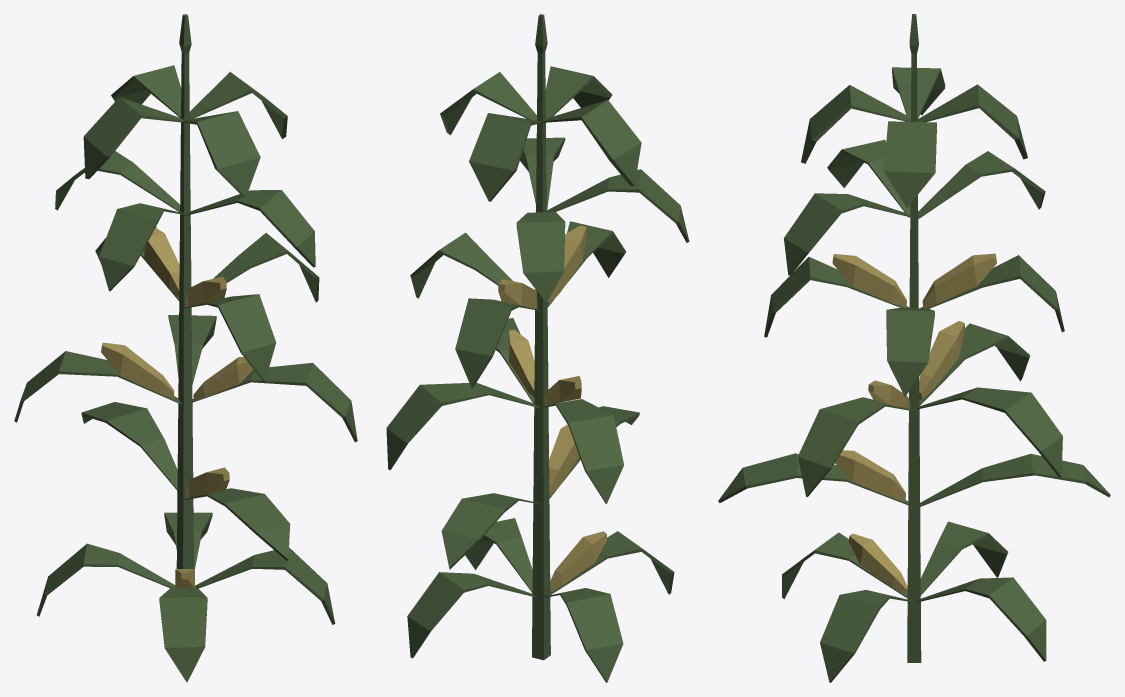
File: Corn_2-transformed.glb
The picture shows the model from 3 angles, left to right: view 1: azimuth 30°, elevation 25°; view 2: azimuth 150°, elevation 25°; view 3: azimuth 270°, elevation 25°; orthographic projection.
Visible parts, largest first — view 1: Corn_2; view 2: Corn_2; view 3: Corn_2.
Boxes of the visible parts, left/top/right/bottom form: Corn_2: left=14, top=14, right=357, bottom=682; Corn_2: left=386, top=14, right=689, bottom=682; Corn_2: left=718, top=14, right=1110, bottom=682.
Size of the model in its own units: 0.8237 by 1.98 by 1.09.
